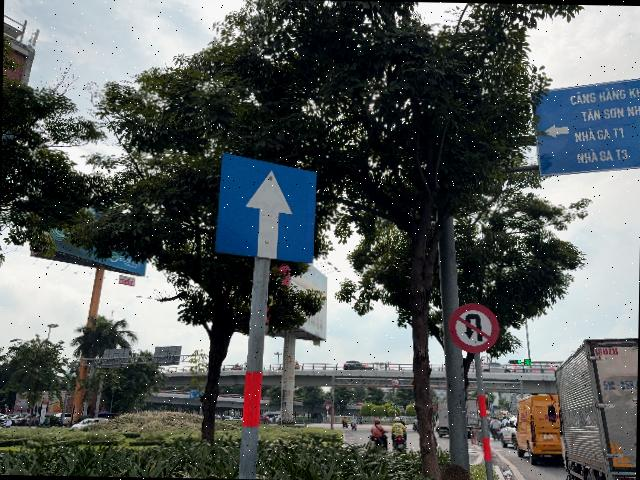cam-quay-dau-xe: (448, 302, 500, 354)
duong-mot-chieu: (214, 152, 317, 264)
